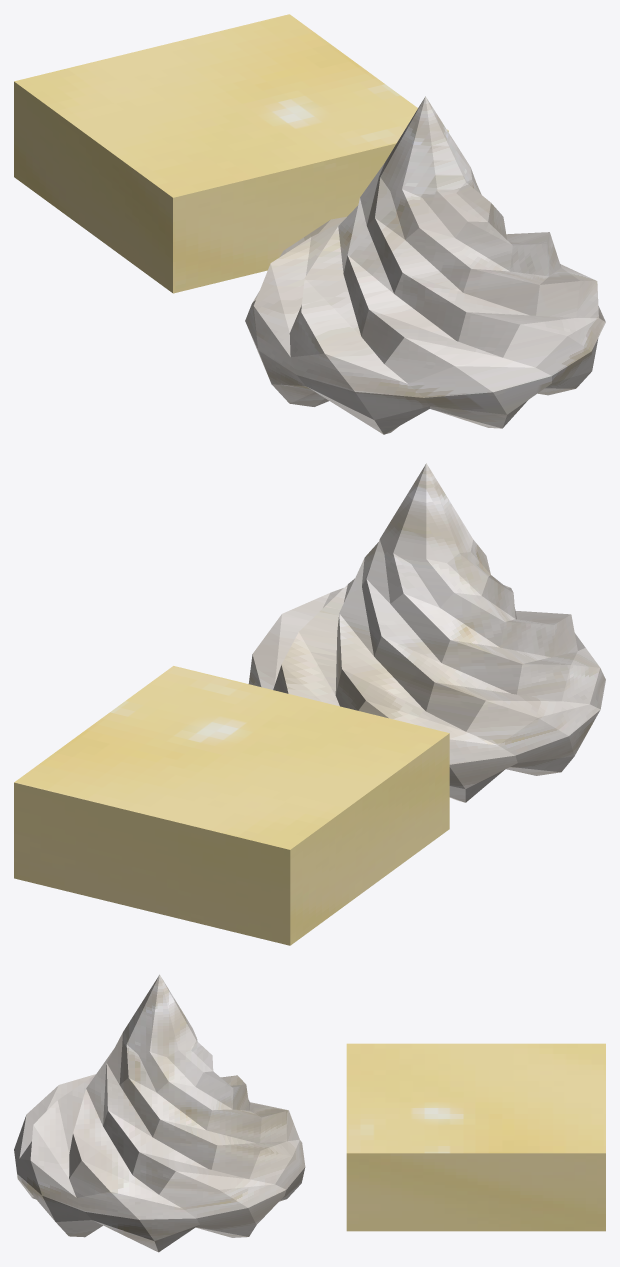
The model's file is toppers.fbx.
The picture shows the model from 3 angles, top to bottom: view 1: azimuth 30°, elevation 25°; view 2: azimuth 150°, elevation 25°; view 3: azimuth 270°, elevation 25°; orthographic projection. The views are drawn at different scales.
Visible parts, largest first — view 1: Cube, Sphere; view 2: Cube, Sphere; view 3: Cube, Sphere.
Boxes of the visible parts, bbox=[...] form: Cube: bbox=[14, 14, 448, 293]; Sphere: bbox=[245, 96, 605, 434]; Cube: bbox=[14, 666, 449, 945]; Sphere: bbox=[248, 463, 605, 802]; Cube: bbox=[346, 1043, 605, 1231]; Sphere: bbox=[14, 974, 305, 1252].
Bounding box in the file's own units: 271 × 238 × 550.
Materials: 2 (2 with a texture image).
